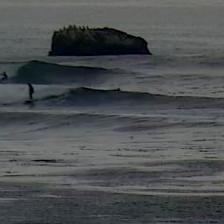surfer: (27, 83, 35, 101), (1, 72, 8, 80)
